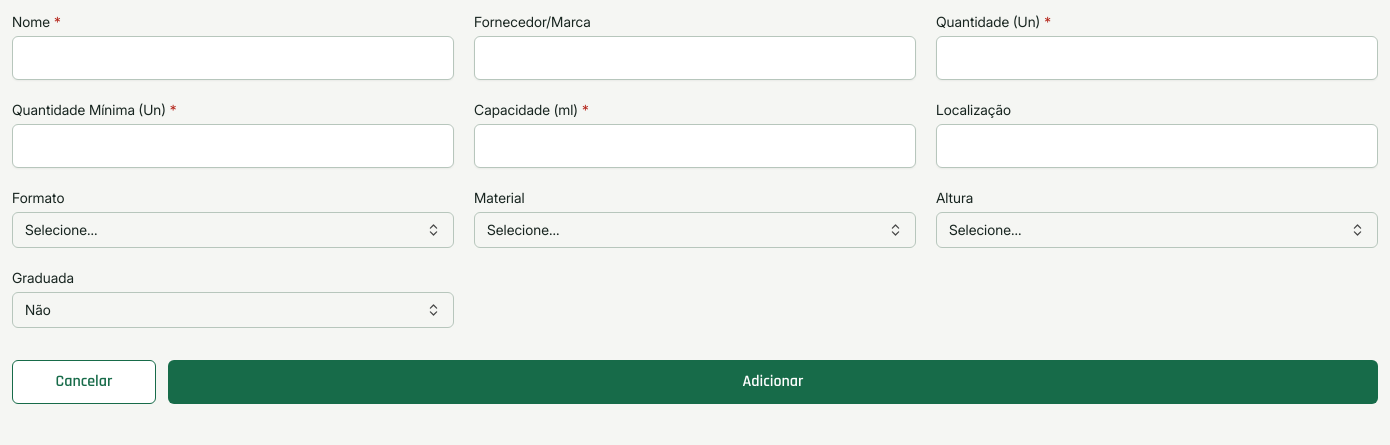
FormVidrarias: experiência de erros › aplica fieldErrors reconhecidos, preserva valores e anuncia o resumo
This screenshot has width=1390, height=445.
Type "Béquer de vidro" into the field labelled "Nome*".
click(233, 58); type("Béquer de vidro")  # box [12,36,454,80]
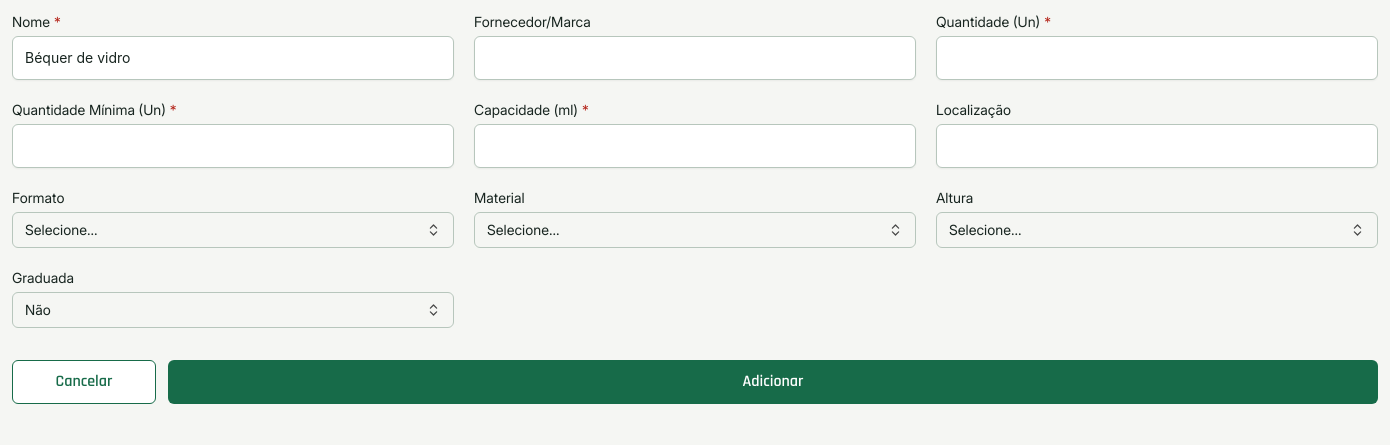
Type "12" into the number field labelled "Quantidade (Un)*".
click(1157, 58); type("12")  # box [936,36,1378,80]
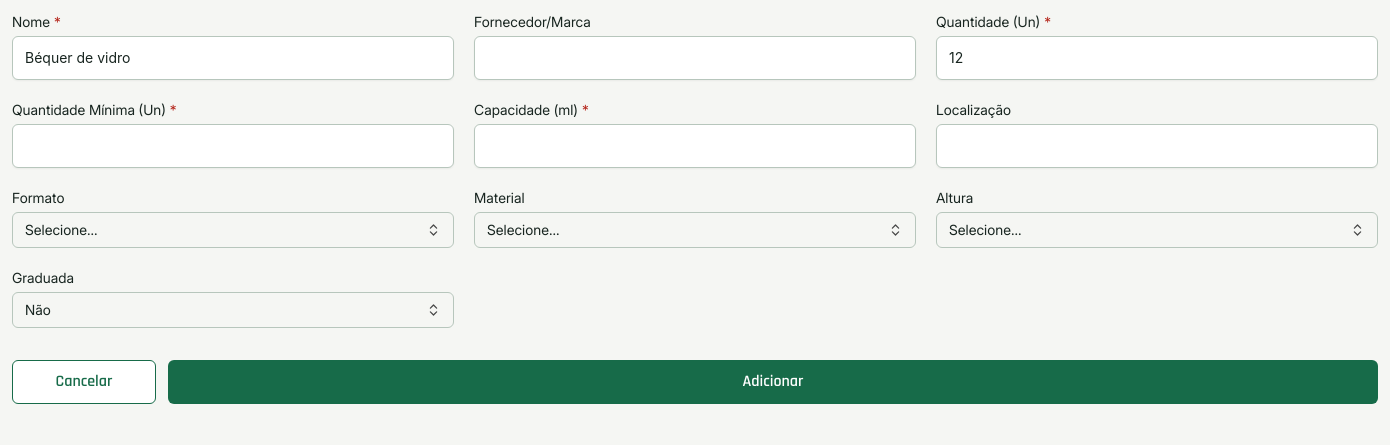
Type "2" into the number field labelled "Quantidade Mínima (Un)*".
click(233, 146); type("2")  # box [12,124,454,168]
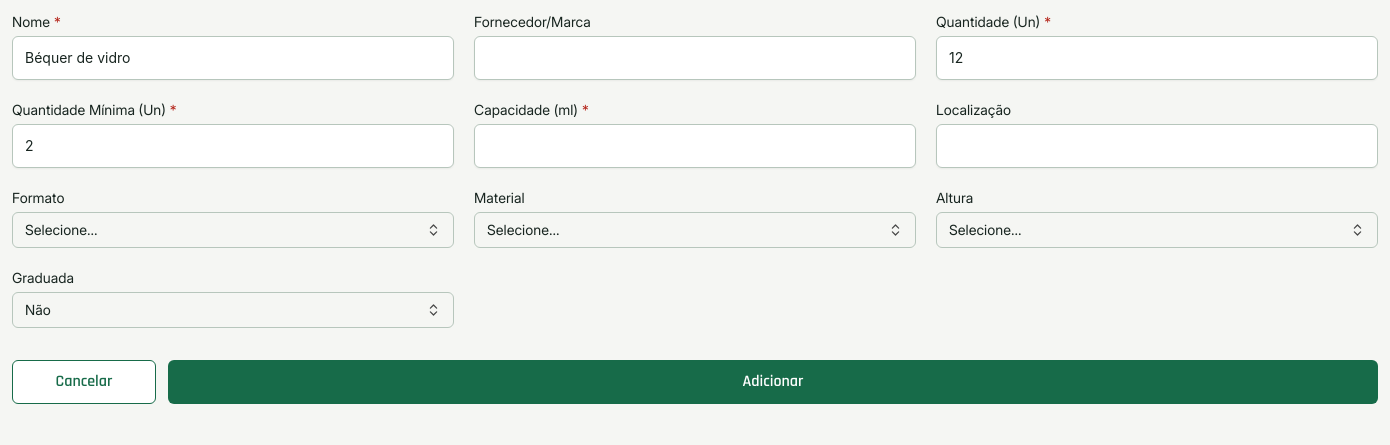
Type "500" into the number field labelled "Capacidade (ml)*".
click(695, 146); type("500")  # box [474,124,916,168]
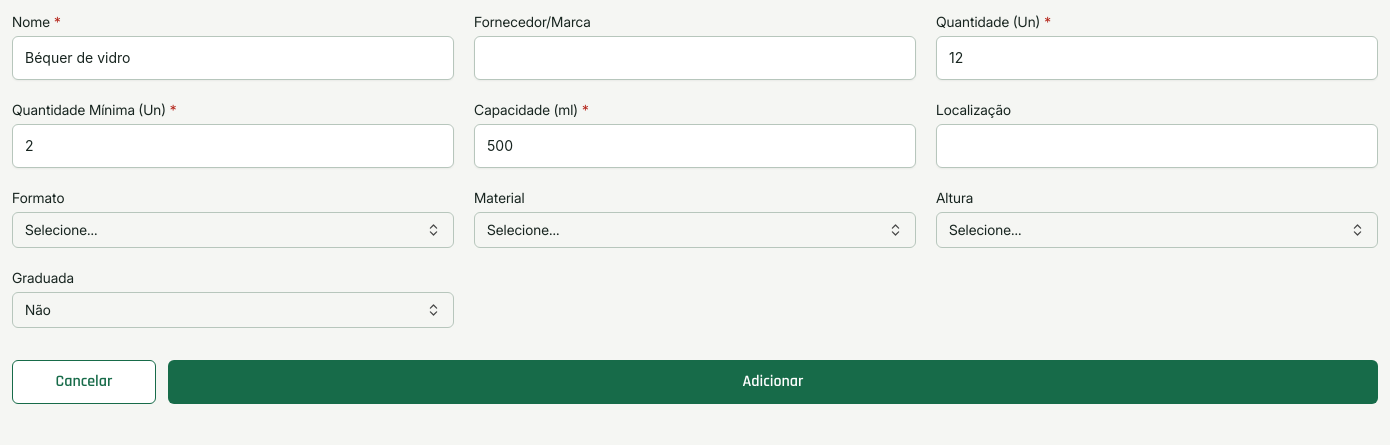
Click the button "Adicionar".
click(773, 382)  # box [168,360,1378,404]
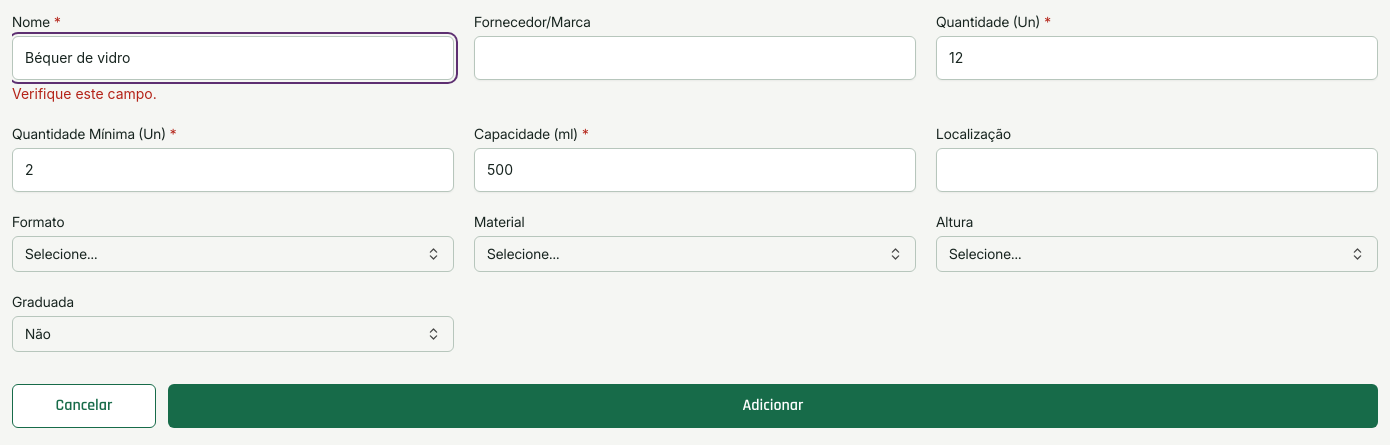
Expected: the button "Adicionar" is enabled, [168,384,1378,428]
Expected: the text "Verifique este campo." is shown, [12,85,157,102]
